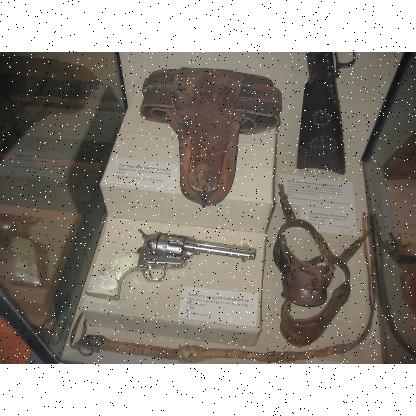gun: (84, 228, 256, 300)
